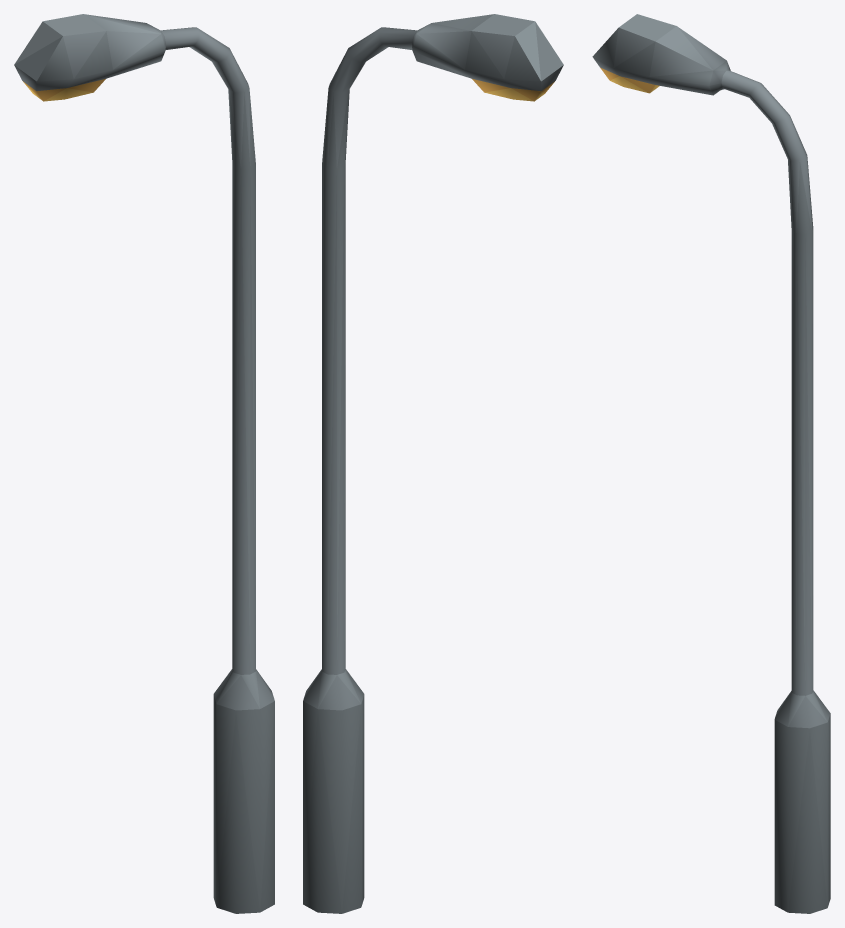
The model's file is street-light-2.glb.
The picture shows the model from 3 angles, left to right: view 1: azimuth 30°, elevation 25°; view 2: azimuth 150°, elevation 25°; view 3: azimuth 330°, elevation 25°; orthographic projection. The views are drawn at different scales.
Visible parts, largest first — view 1: street-light-2; view 2: street-light-2; view 3: street-light-2.
Part boxes in pixels (x1=…): street-light-2: x1=14, y1=14, x2=274, y2=913; street-light-2: x1=303, y1=14, x2=563, y2=913; street-light-2: x1=592, y1=14, x2=830, y2=913.
Bounding box in the file's own units: 1.12 × 4 × 0.2876.
